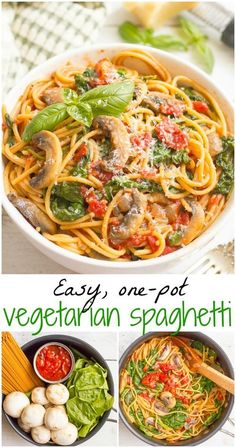plain spaghetti: (7, 71, 232, 248), (130, 347, 215, 435)
